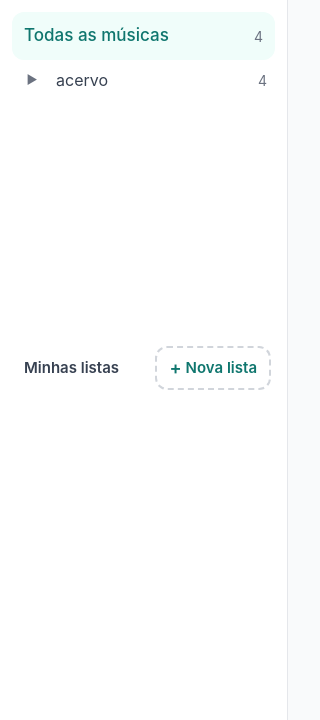
Test: Sidebar — árvore de pastas recolhível, como um explorador (V12) › pasta-folha (sem subpasta) não tem seta nenhuma
Click the button named "Abrir pasta acervo".
click(32, 80)  # box [14, 60, 50, 100]
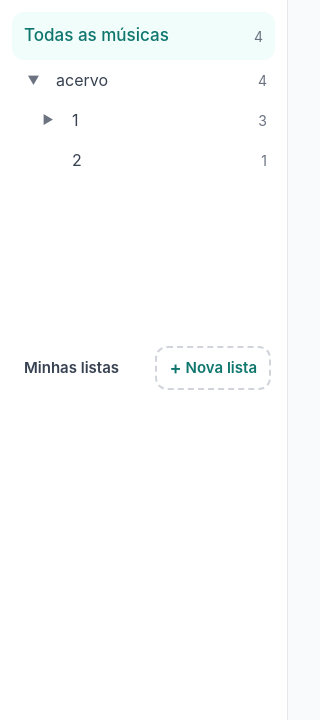
Click the 2nd button "▶".
click(48, 120)  # box [30, 100, 66, 140]
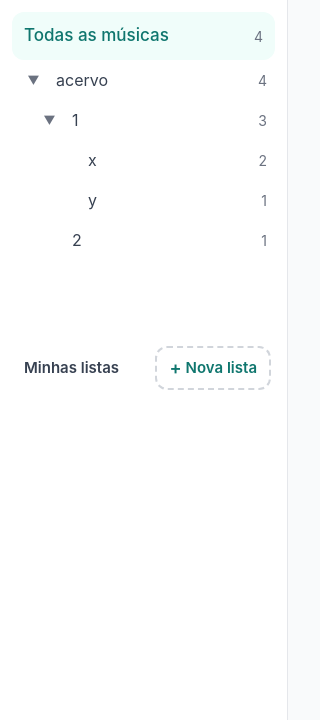
Now the button named "Pasta y" is shown, box [84, 180, 267, 220]
